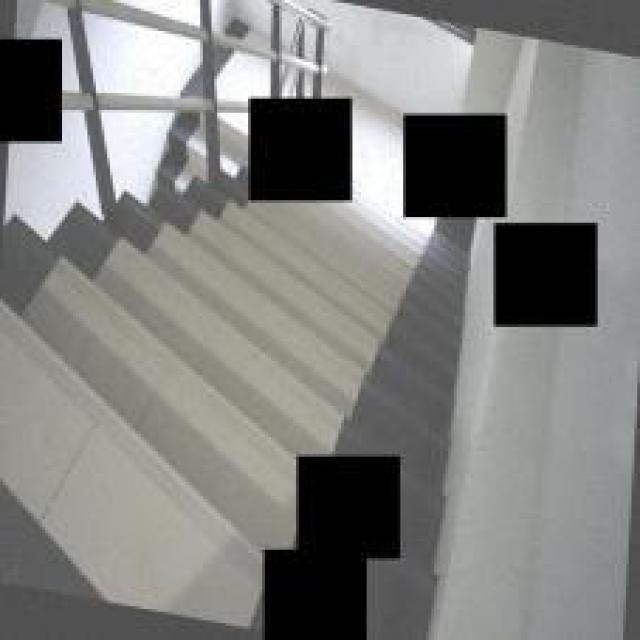downstair: (14, 186, 486, 604)
